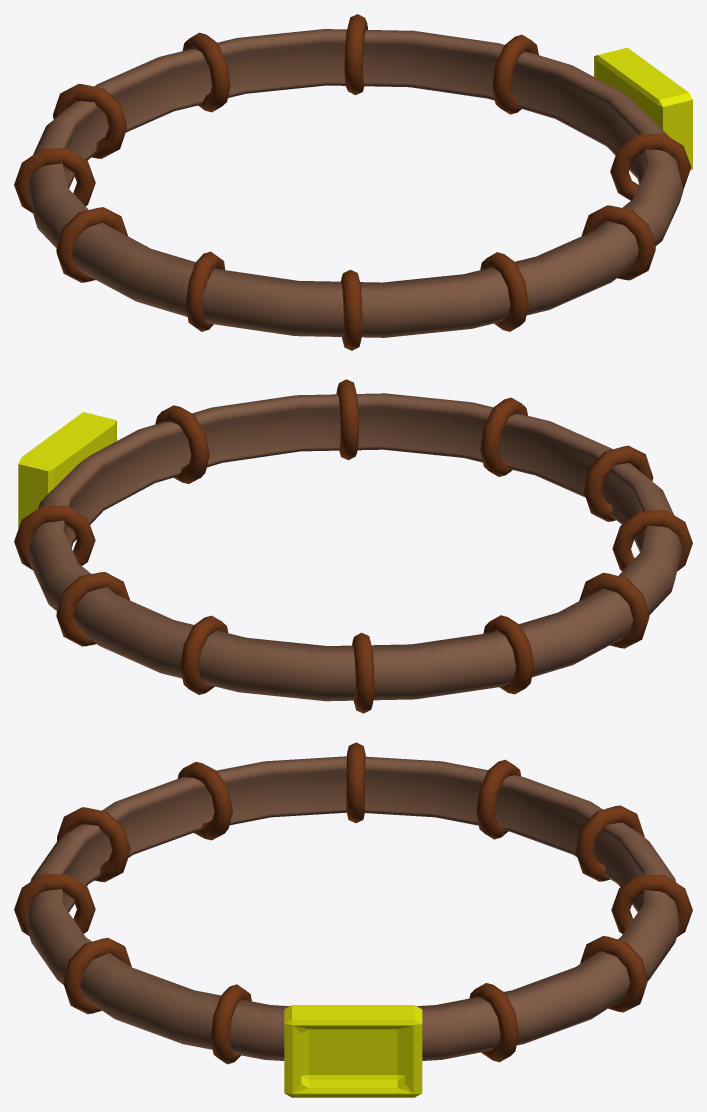
The model's file is Belt.fbx.
3 views of the same model, one above another, from view 1: azimuth 30°, elevation 25°; view 2: azimuth 150°, elevation 25°; view 3: azimuth 270°, elevation 25° (orthographic).
Visible parts, largest first — view 1: Belt, Cube, Torus.012, Torus.006, Torus.005, Torus.011, Torus.007, Torus.004, Torus.008, Torus.002, Torus.009, Torus.003 (+1 smaller); view 2: Belt, Cube, Torus.002, Torus.009, Torus.010, Torus.003, Torus.007, Torus.012, Torus.006, Torus.008, Torus.004, Torus.005 (+1 smaller); view 3: Belt, Cube, Torus.008, Torus.004, Torus.010, Torus.005, Torus.003, Torus.011, Torus.009, Torus.002, Torus.006, Torus.012 (+1 smaller).
Boxes of the visible parts, x1,y1,x2,y2 form: Belt: (27, 29, 683, 337); Cube: (594, 47, 692, 170); Torus.012: (610, 133, 691, 200); Torus.006: (14, 148, 95, 213); Torus.005: (53, 84, 126, 158); Torus.011: (581, 205, 655, 280); Torus.007: (56, 207, 127, 282); Torus.004: (182, 32, 230, 112); Torus.008: (480, 252, 528, 331); Torus.002: (492, 34, 538, 114); Torus.009: (186, 251, 225, 331); Torus.003: (344, 14, 368, 95); Belt: (27, 393, 681, 701); Cube: (18, 412, 116, 528); Torus.002: (14, 505, 95, 570); Torus.009: (612, 510, 692, 571); Torus.010: (583, 445, 653, 521); Torus.003: (56, 572, 130, 646); Torus.007: (579, 572, 649, 648); Torus.012: (155, 405, 209, 483); Torus.006: (483, 615, 534, 694); Torus.008: (480, 397, 527, 476); Torus.004: (180, 615, 228, 694); Torus.005: (352, 632, 374, 713); Belt: (27, 756, 678, 1060); Cube: (284, 1005, 422, 1097); Torus.008: (14, 874, 95, 935); Torus.004: (611, 875, 692, 936); Torus.010: (57, 807, 130, 882); Torus.005: (575, 805, 644, 881); Torus.003: (580, 936, 647, 1012); Torus.011: (63, 938, 131, 1014); Torus.009: (177, 762, 232, 840); Torus.002: (469, 983, 518, 1062); Torus.006: (476, 759, 521, 839); Torus.012: (211, 984, 251, 1064).
Size of the model in its own units: 634 by 78.73 by 621.
